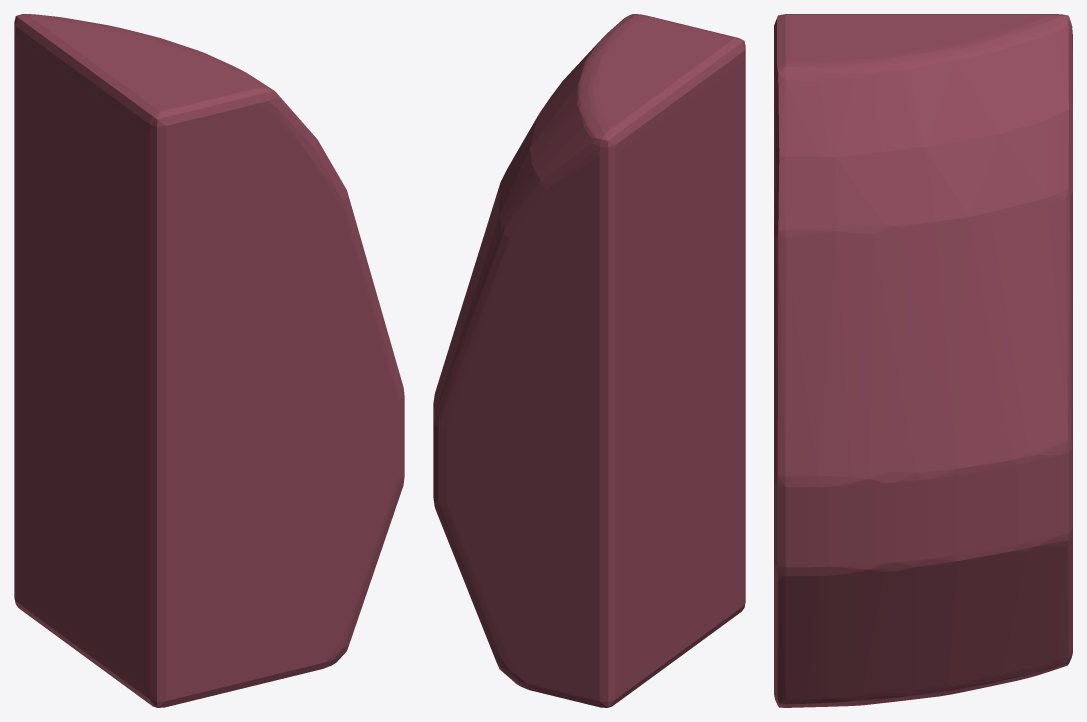
The model's file is right_hip_roll_link_part_13.obj.
3 renders of one model, left to right at view 1: azimuth 30°, elevation 25°; view 2: azimuth 150°, elevation 25°; view 3: azimuth 270°, elevation 25°, orthographic. The views are drawn at different scales.
Bounding box in the file's own units: 0.0336 × 0.0752 × 0.0334.
